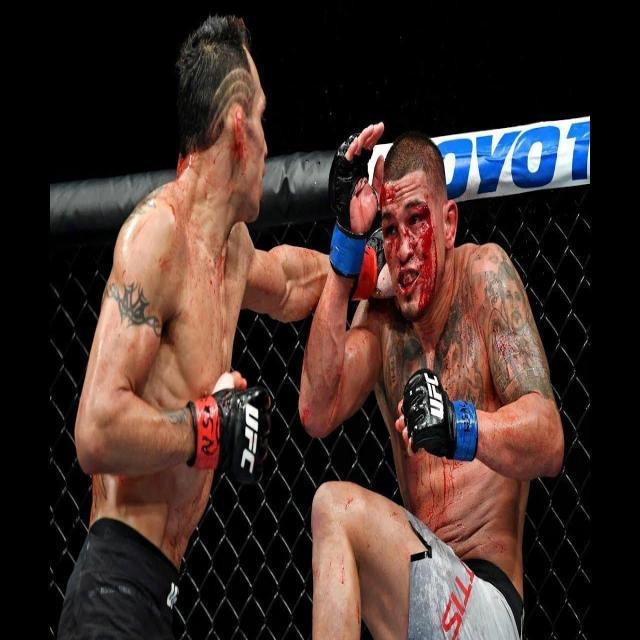flood: (373, 164, 449, 324)
